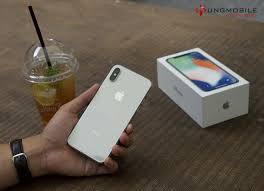iphone: (65, 63, 153, 164)
